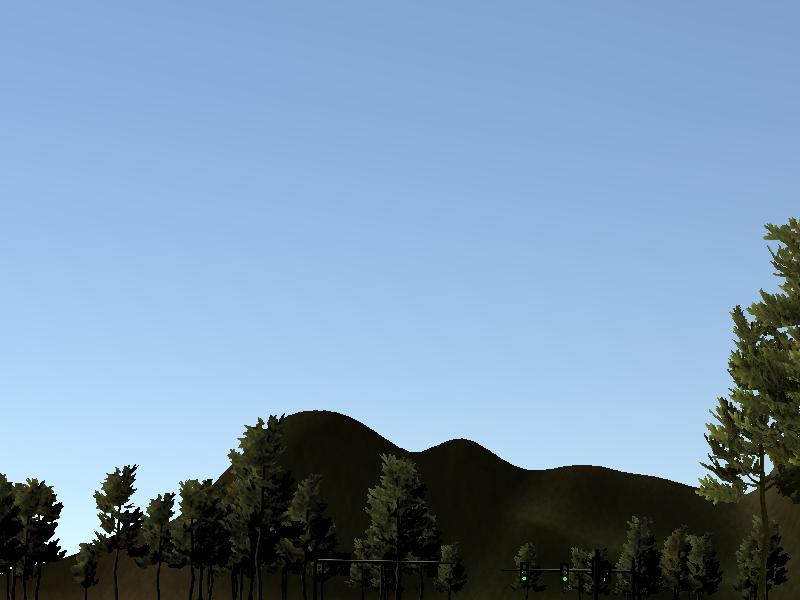Green: (519, 559, 528, 585), (560, 561, 570, 584)
